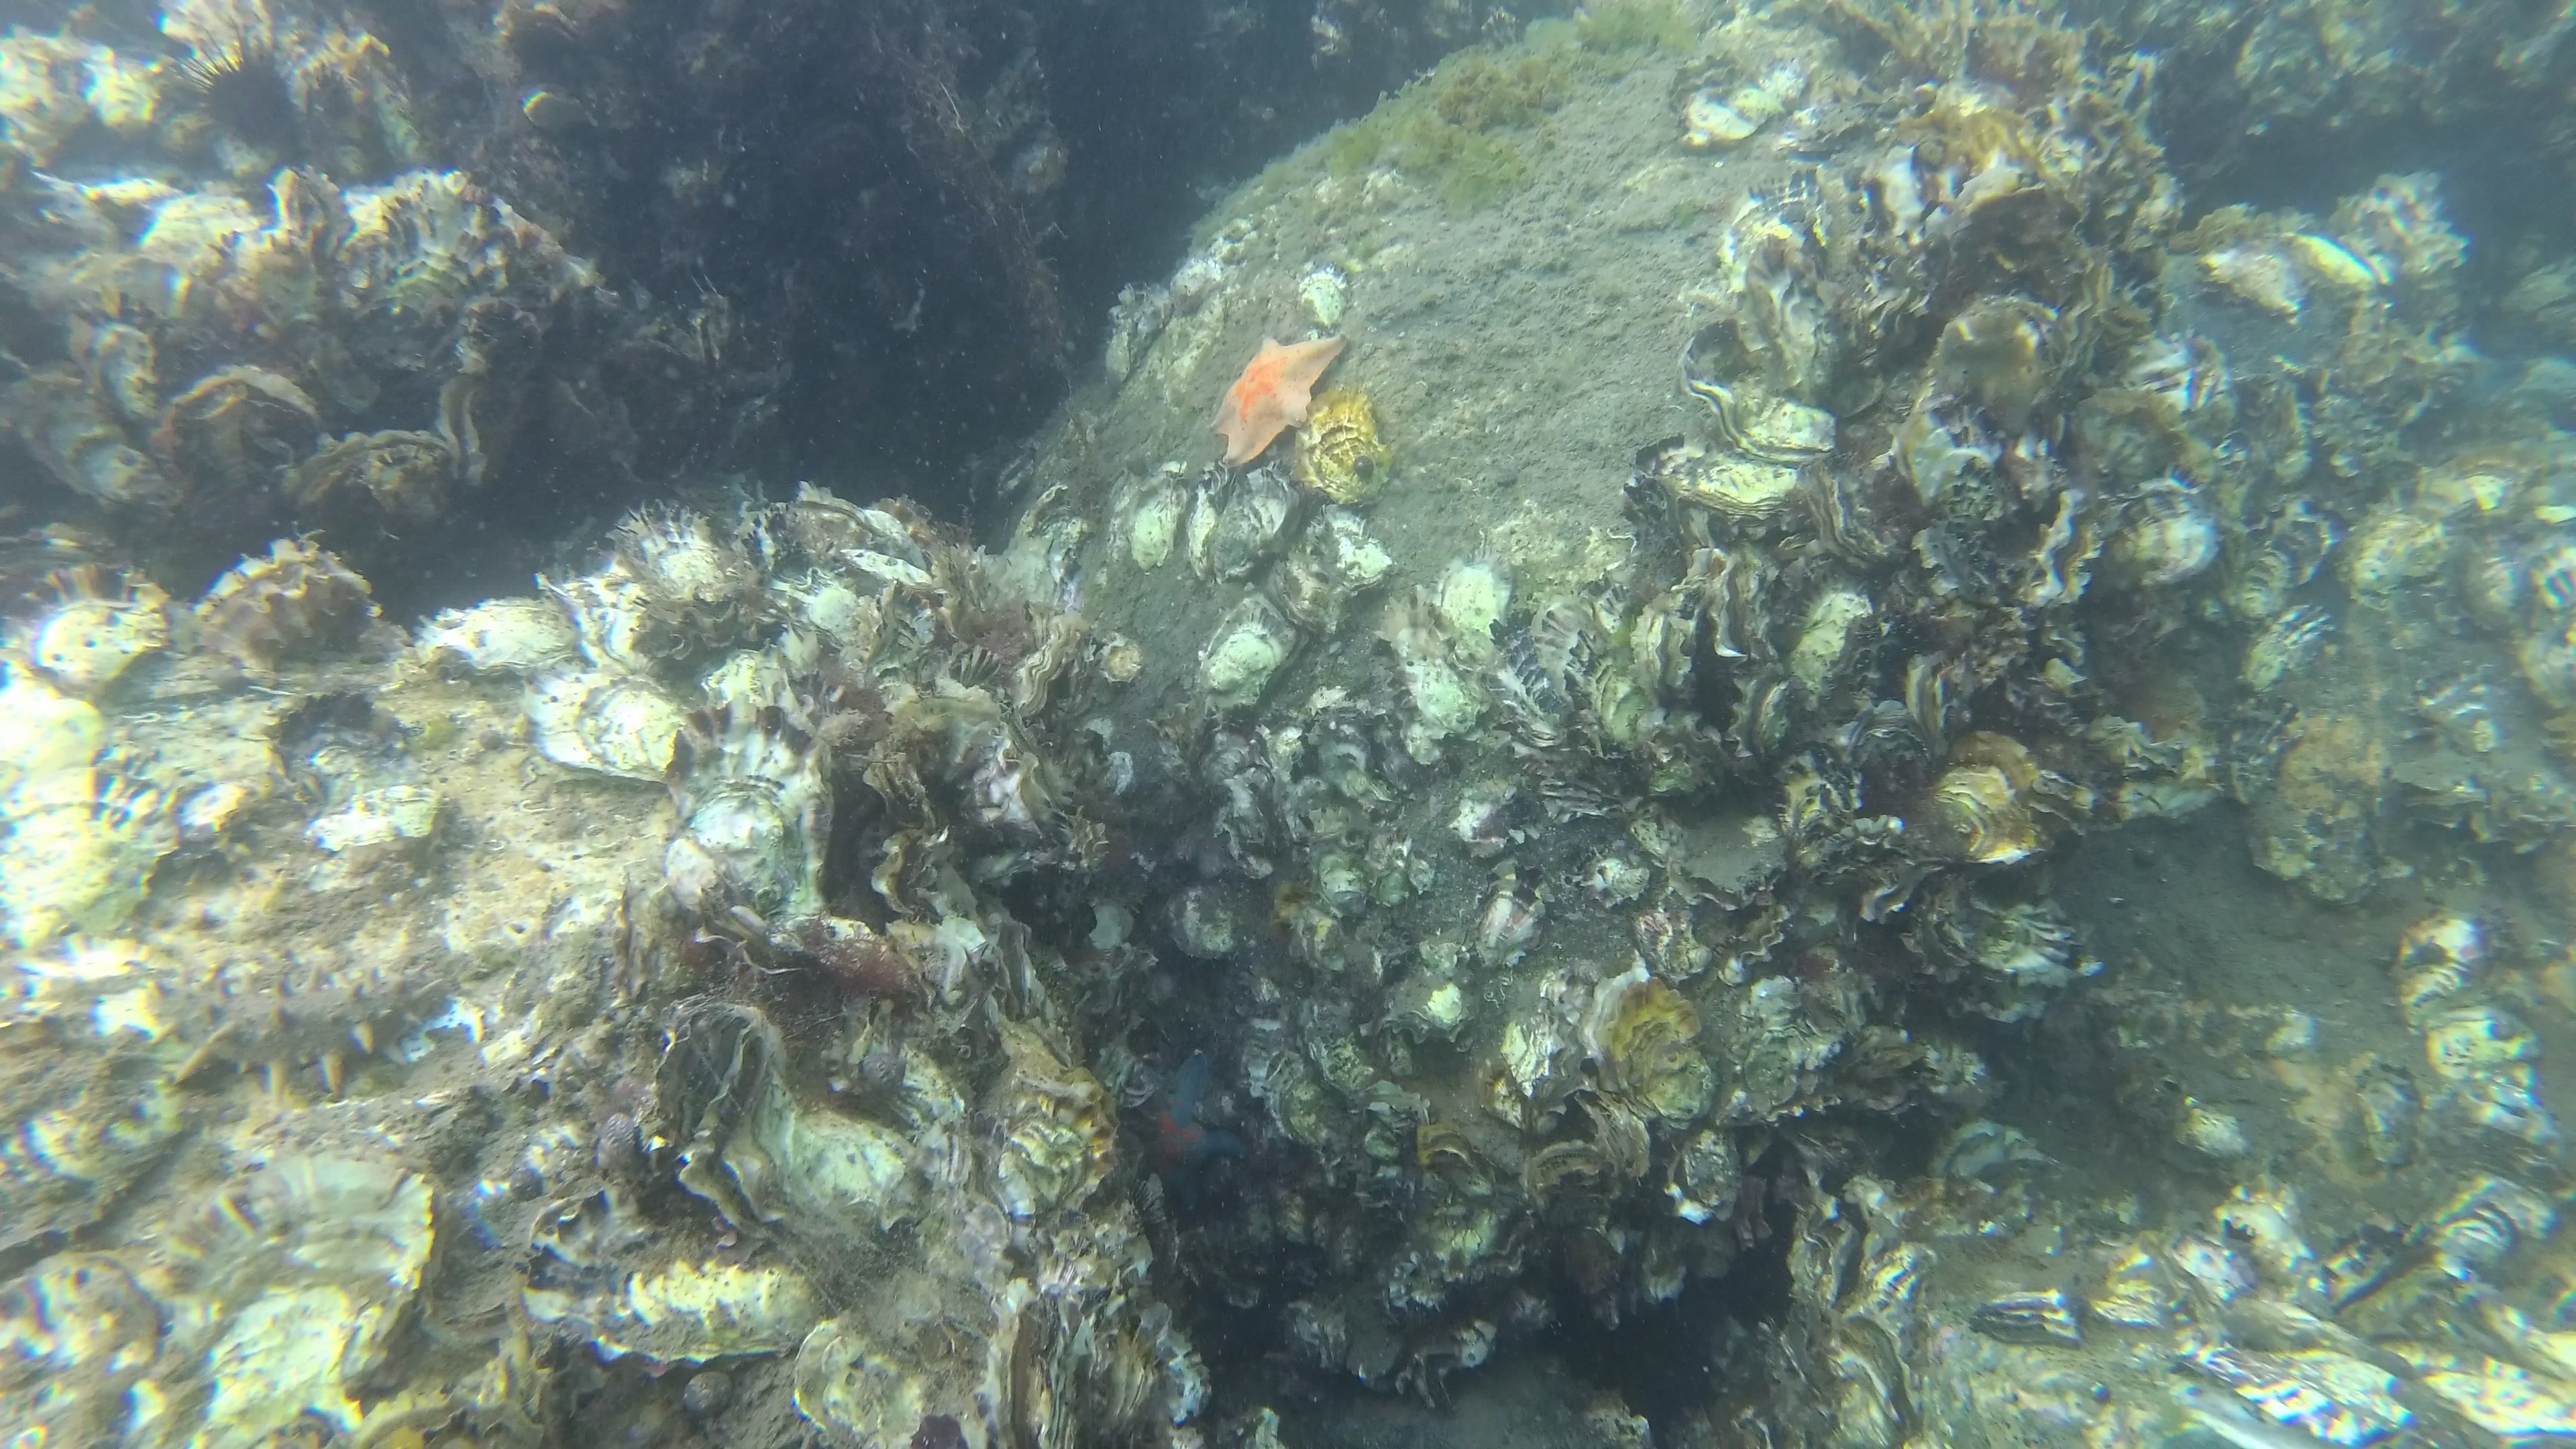echinus: (173, 32, 313, 154)
holothurian: (140, 957, 460, 1108)
starfish: (1201, 329, 1339, 469), (1138, 1044, 1240, 1215)
